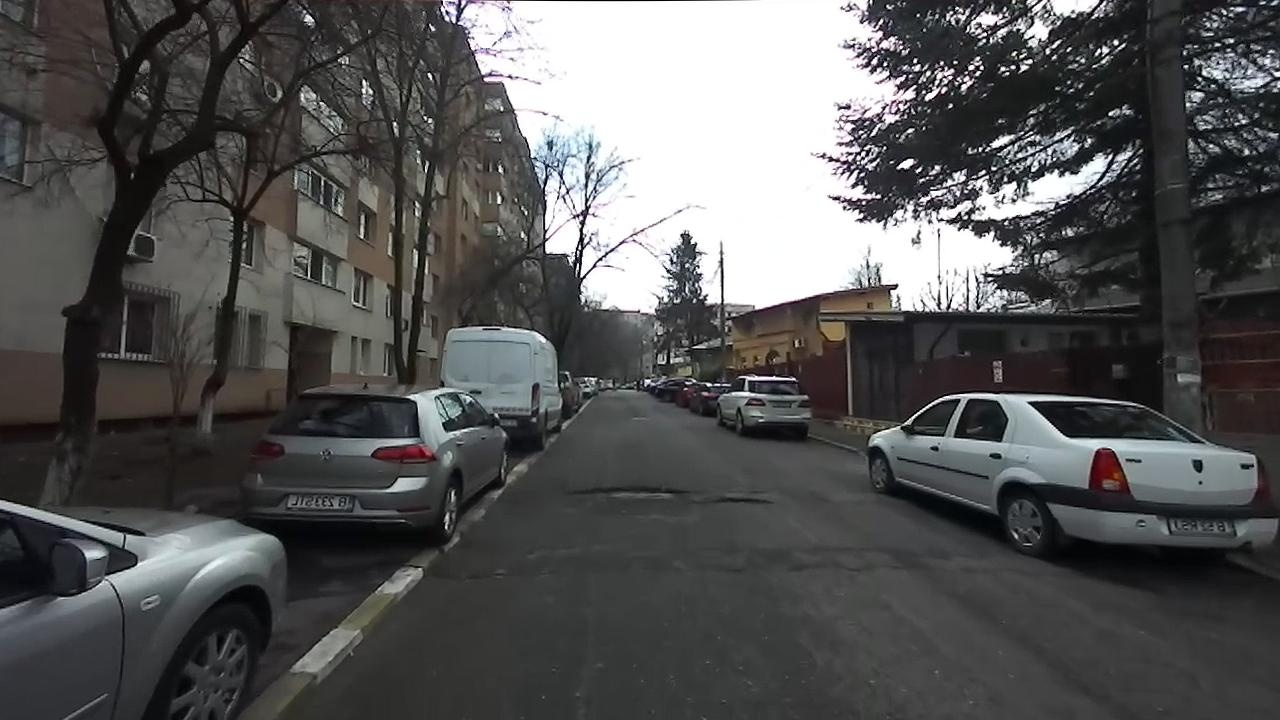pothole: (563, 483, 688, 503), (693, 493, 775, 507)
